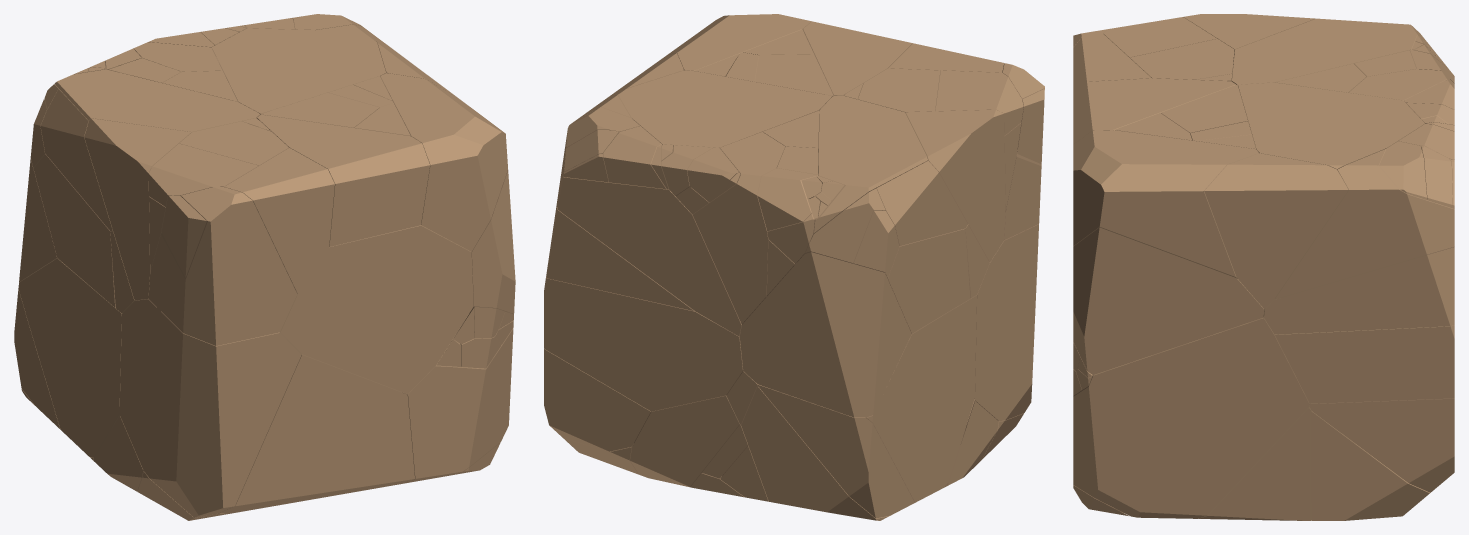
The model's file is Dice_frac.fbx.
3 renders of one model, left to right at view 1: azimuth 30°, elevation 25°; view 2: azimuth 150°, elevation 25°; view 3: azimuth 270°, elevation 25°, orthographic. The views are drawn at different scales.
Visible parts, largest first — view 1: Cube_cell.022, Cube_cell.040, Cube_cell.004, Cube_cell.010, Cube_cell.032, Cube_cell.042, Cube_cell.009, Cube_cell.034, Cube_cell.019, Cube_cell.011, Cube_cell.008, Cube_cell.014 (+24 smaller); view 2: Cube_cell.017, Cube_cell.001, Cube_cell.032, Cube_cell.035, Cube_cell.034, Cube_cell.022, Cube_cell.011, Cube_cell.015_cell.004, Cube_cell.014, Cube_cell.024, Cube_cell.031, Cube_cell.027 (+35 smaller); view 3: Cube_cell.019, Cube_cell, Cube_cell.042, Cube_cell.039, Cube_cell.035, Cube_cell.001, Cube_cell.034, Cube_cell.038, Cube_cell.029, Cube_cell.014, Cube_cell.028, Cube_cell.018 (+19 smaller).
Part boxes in pixels (<box>): Cube_cell.022: <box>119,299,301,517</box>; Cube_cell.040: <box>280,225,473,394</box>; Cube_cell.004: <box>218,355,414,513</box>; Cube_cell.010: <box>148,187,297,345</box>; Cube_cell.032: <box>18,258,121,458</box>; Cube_cell.042: <box>380,73,507,251</box>; Cube_cell.009: <box>257,114,430,246</box>; Cube_cell.034: <box>211,28,386,114</box>; Cube_cell.019: <box>402,313,513,483</box>; Cube_cell.011: <box>84,118,191,300</box>; Cube_cell.008: <box>224,147,334,293</box>; Cube_cell.014: <box>54,69,260,131</box>; Cube_cell.017: <box>739,252,911,417</box>; Cube_cell.001: <box>544,277,743,411</box>; Cube_cell.032: <box>866,295,976,502</box>; Cube_cell.035: <box>557,94,741,336</box>; Cube_cell.034: <box>618,70,832,147</box>; Cube_cell.022: <box>974,224,1038,420</box>; Cube_cell.011: <box>905,109,1005,262</box>; Cube_cell.015_cell.004: <box>692,132,785,324</box>; Cube_cell.014: <box>813,95,927,235</box>; Cube_cell.024: <box>757,384,914,518</box>; Cube_cell.031: <box>741,386,889,520</box>; Cube_cell.027: <box>630,395,741,487</box>; Cube_cell.019: <box>1073,317,1309,518</box>; Cube_cell: <box>1073,227,1264,374</box>; Cube_cell.042: <box>1073,130,1259,278</box>; Cube_cell.039: <box>1204,153,1348,308</box>; Cube_cell.035: <box>1274,148,1454,299</box>; Cube_cell.001: <box>1275,325,1454,403</box>; Cube_cell.034: <box>1238,82,1424,169</box>; Cube_cell.038: <box>1263,247,1454,334</box>; Cube_cell.029: <box>1309,398,1454,492</box>; Cube_cell.014: <box>1231,18,1445,85</box>; Cube_cell.028: <box>1310,411,1429,520</box>; Cube_cell.018: <box>1199,405,1311,520</box>.
Size of the model in its own units: 200 by 200 by 200.
